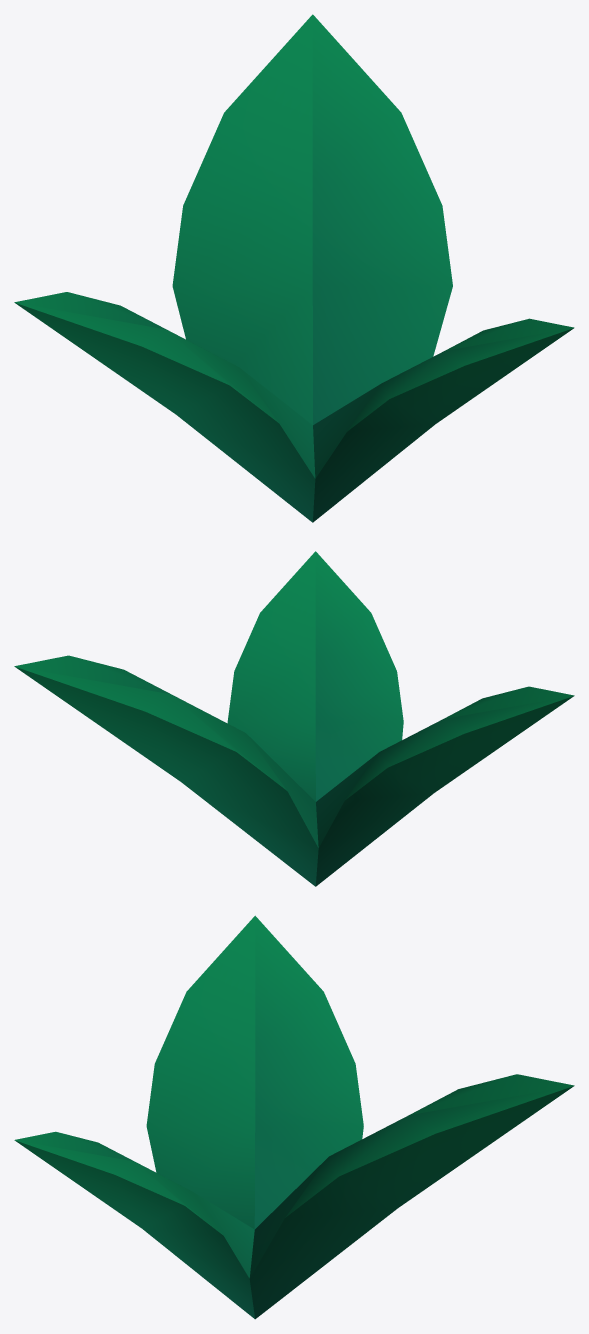
Rendered from H_waterplant_A.glb.
3 views of the same model, one above another, from view 1: azimuth 30°, elevation 25°; view 2: azimuth 150°, elevation 25°; view 3: azimuth 270°, elevation 25° (orthographic). The views are drawn at different scales.
Parts seen in each view (by area): view 1: waterplant_A; view 2: waterplant_A; view 3: waterplant_A.
Boxes of the visible parts, x1=… form: waterplant_A: x1=14, y1=14, x2=574, y2=522; waterplant_A: x1=14, y1=551, x2=574, y2=886; waterplant_A: x1=14, y1=915, x2=574, y2=1319.
Bounding box in the file's own units: 0.1983 × 0.1323 × 0.2157.
